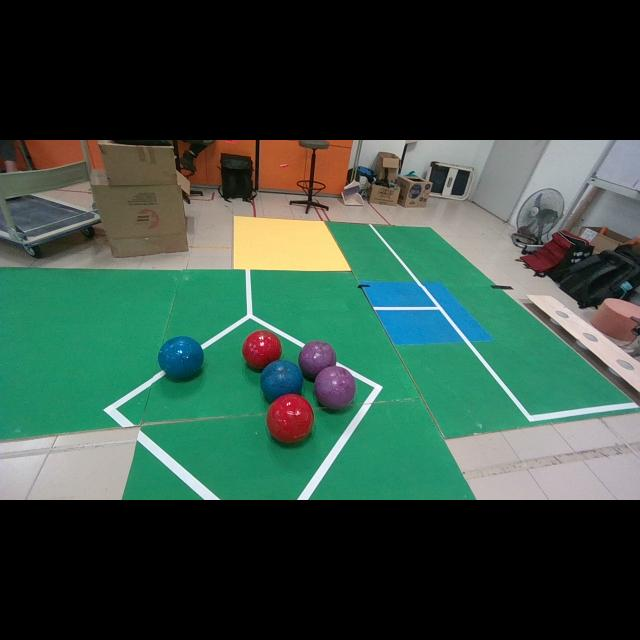B: (158, 336, 204, 379), (261, 361, 304, 401)
P: (314, 366, 355, 409), (299, 340, 336, 379)
R: (266, 394, 314, 443), (242, 330, 282, 369)
